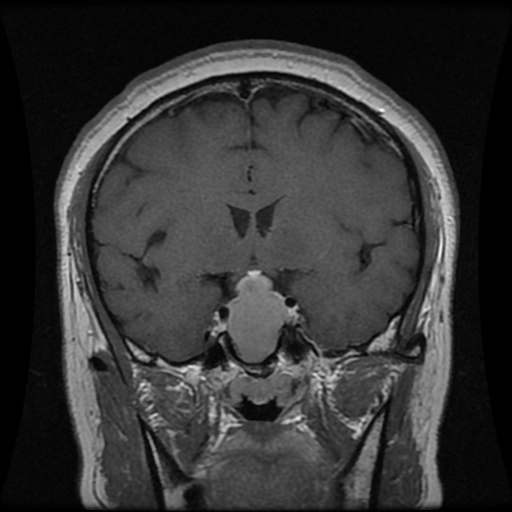pituitary: (227, 273, 285, 359)
